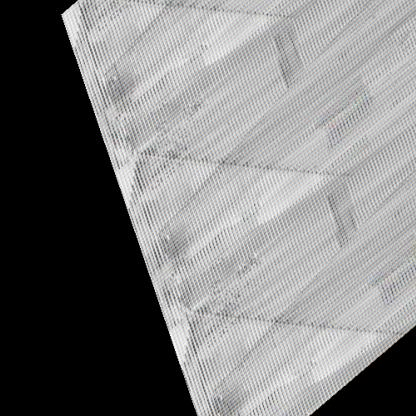Damage: (314, 129, 402, 250), (158, 198, 204, 272), (266, 19, 307, 89)
